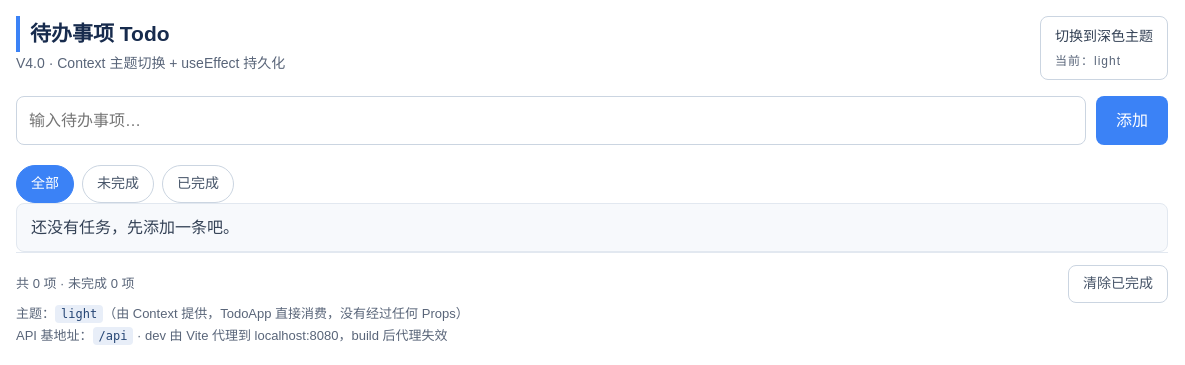
it: 行为9：编辑内容不合法时提示失败，原文本保持不变
In the field named "待办事项内容": point(551, 121) [16,96,1086,145], type "任务A"
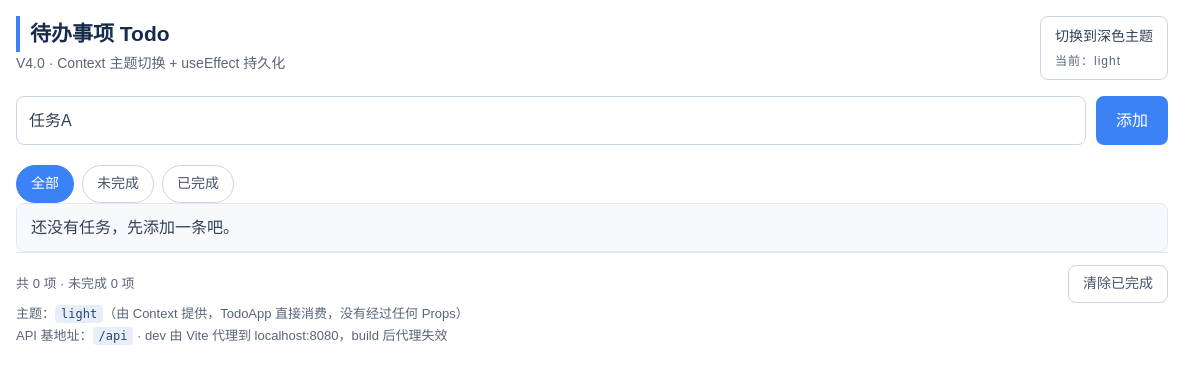
Click the button "添加": point(1132, 121) [1096,96,1168,145]
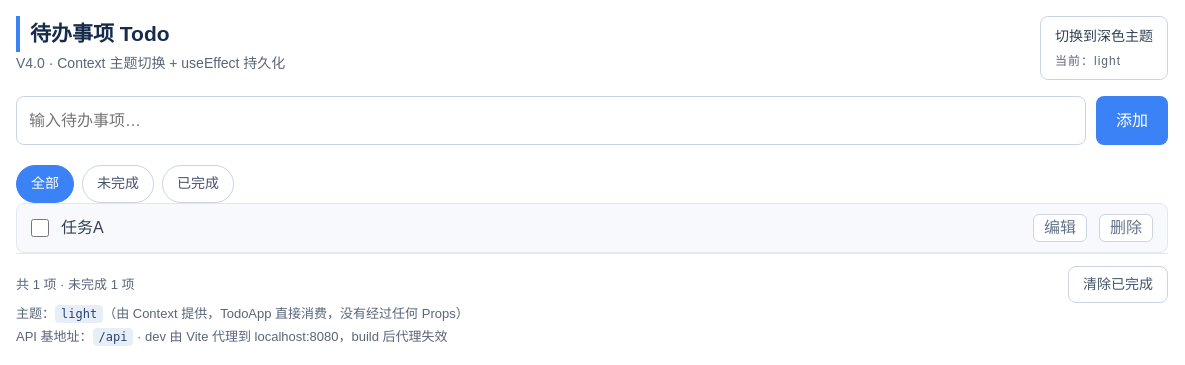
Click the button with aria-label "编辑：任务A": point(1060, 228) [1033,214,1087,242]
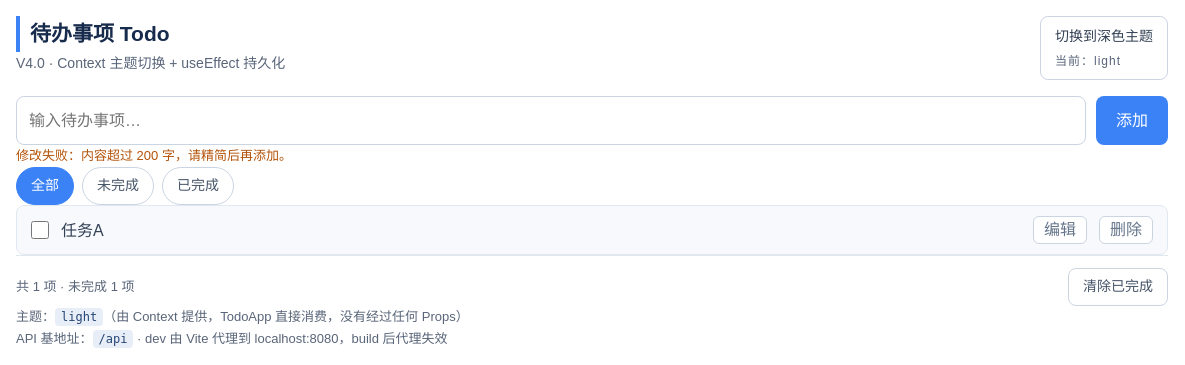
expect the text "任务A" is shown: met, box [61,222,104,239]
expect the text "修改失败：内容超过 200 字，请精简后再添加。" is shown: met, box [16,148,292,163]
